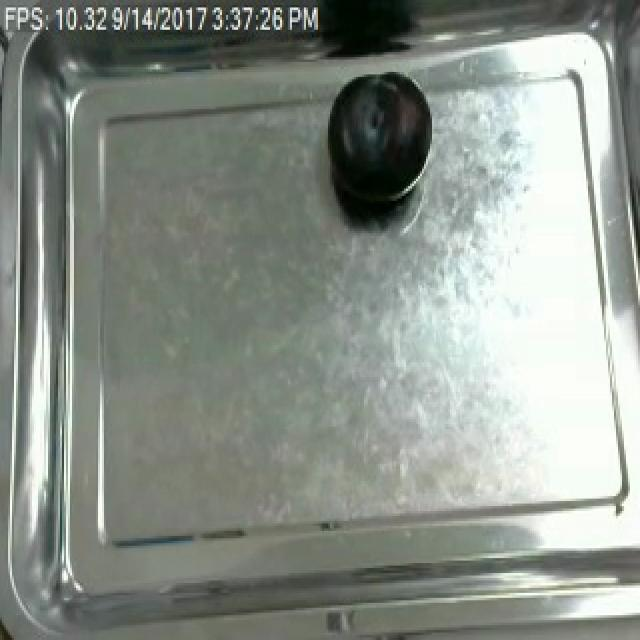Fruit: (316, 67, 440, 221), (318, 0, 416, 57)
